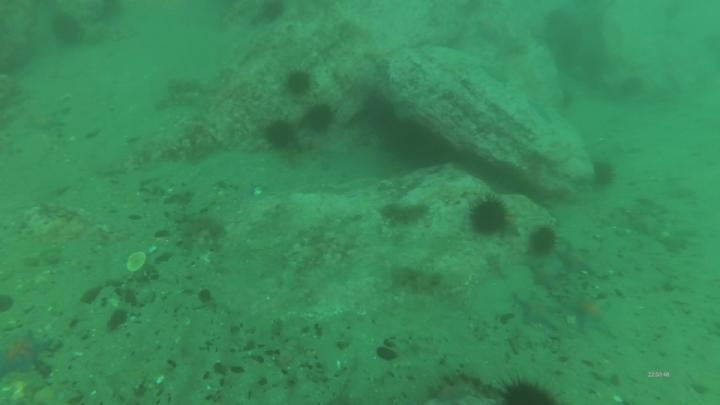echinus: (496, 372, 566, 405), (465, 193, 511, 235), (46, 12, 87, 51), (361, 97, 401, 133), (261, 118, 299, 154), (282, 68, 319, 100), (526, 224, 563, 256), (306, 103, 337, 135), (590, 160, 618, 187), (260, 1, 288, 26), (100, 1, 123, 23)
holothurian: (388, 264, 448, 296), (376, 199, 434, 231)
starfish: (509, 288, 572, 334), (1, 327, 54, 380), (564, 290, 619, 341), (555, 239, 596, 280), (525, 260, 569, 294)
